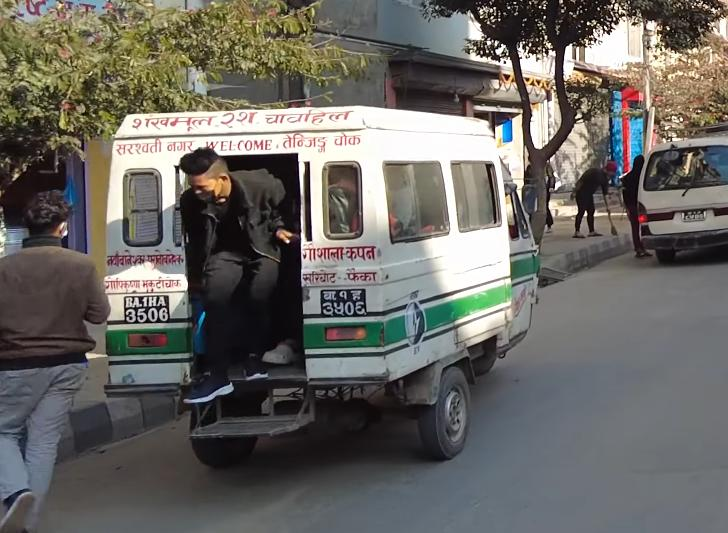tempo: (81, 98, 545, 466)
